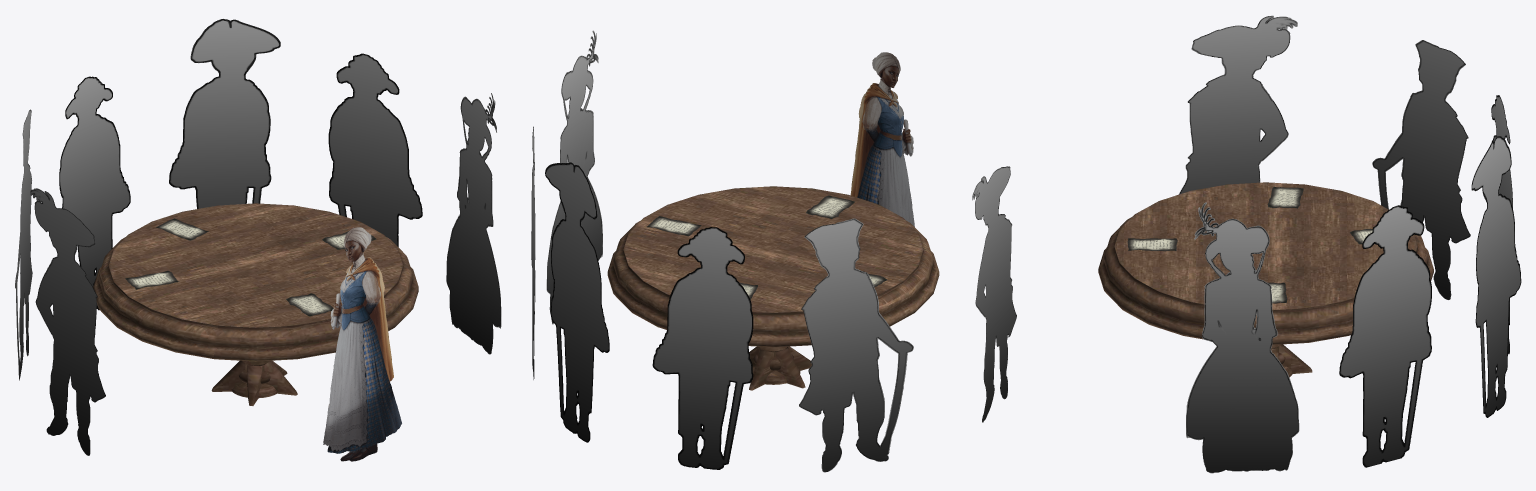
3 renders of one model, left to right at view 1: azimuth 30°, elevation 25°; view 2: azimuth 150°, elevation 25°; view 3: azimuth 270°, elevation 25°, orthographic. The views are drawn at different scales.
Visible parts, largest first — view 1: Table, Agent4, AgentMain, Agent5, Agent1, Agent6, Agent3, Agent2, PaperSouth, PaperWest, PaperNorth; view 2: Table, Agent2, Agent3, Agent4, AgentMain, Agent1, Agent6, Agent5, PaperSouth, PaperEast; view 3: Table, Agent6, Agent5, Agent1, Agent2, Agent4, Agent3, PaperWest, PaperSouth.
Boxes of the visible parts, x1,y1,x2,y2 form: Table: [93, 203, 418, 405]; Agent4: [169, 19, 280, 208]; AgentMain: [323, 227, 401, 461]; Agent5: [328, 53, 422, 246]; Agent1: [30, 188, 105, 455]; Agent6: [446, 93, 501, 354]; Agent3: [59, 76, 130, 310]; Agent2: [15, 109, 32, 380]; PaperSouth: [286, 293, 333, 316]; PaperWest: [125, 270, 179, 289]; PaperNorth: [155, 218, 208, 240]; Table: [607, 186, 939, 390]; Agent2: [799, 218, 913, 472]; Agent3: [652, 227, 753, 469]; Agent4: [545, 162, 609, 442]; AgentMain: [850, 52, 914, 226]; Agent1: [972, 166, 1016, 422]; Agent6: [546, 30, 602, 324]; Agent5: [531, 126, 535, 379]; PaperSouth: [806, 195, 854, 219]; PaperEast: [646, 216, 701, 236]; Table: [1098, 182, 1433, 377]; Agent6: [1186, 202, 1299, 473]; Agent5: [1339, 205, 1431, 467]; Agent1: [1178, 15, 1297, 194]; Agent2: [1372, 40, 1470, 299]; Agent4: [1471, 136, 1521, 417]; Agent3: [1491, 95, 1516, 354]; PaperWest: [1267, 186, 1303, 208]; PaperSouth: [1127, 238, 1177, 251].
Size of what is drawn, in the model's own units: 3.11 by 2.97 by 2.04.
4 materials, 4 textured.
